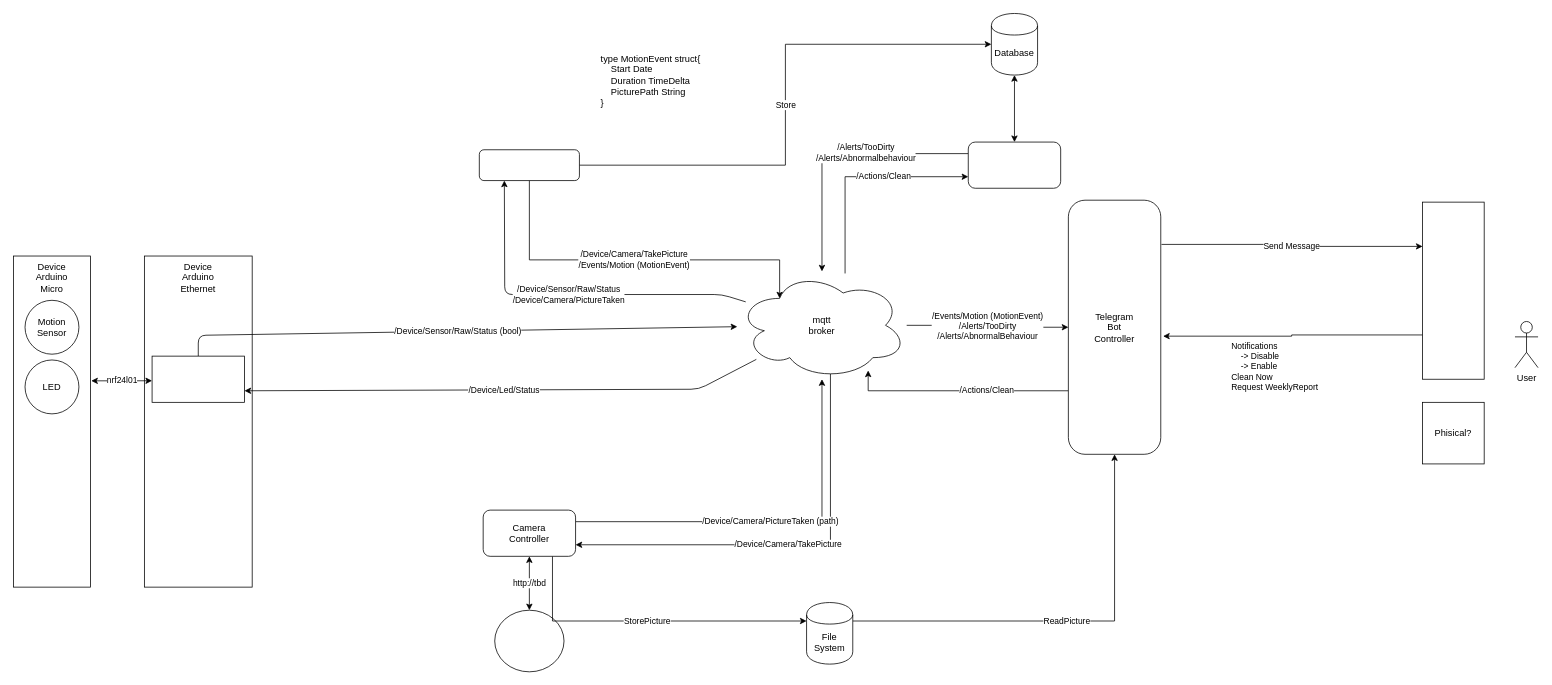
The diagram is 1552 pixels wide and 685 high, and some of its shapes have lost their labels. The shapes that lost their labels are listed below. From the top down, each one's centre as x and y in pixels, then its label:
At pixel 529 165: "Motion Processor".
At pixel 1014 164: "Alert System".
At pixel 1453 290: "Telegram App".
At pixel 197 378: "Bridge nRF <-> Ethernet".
At pixel 529 640: "Camera".
